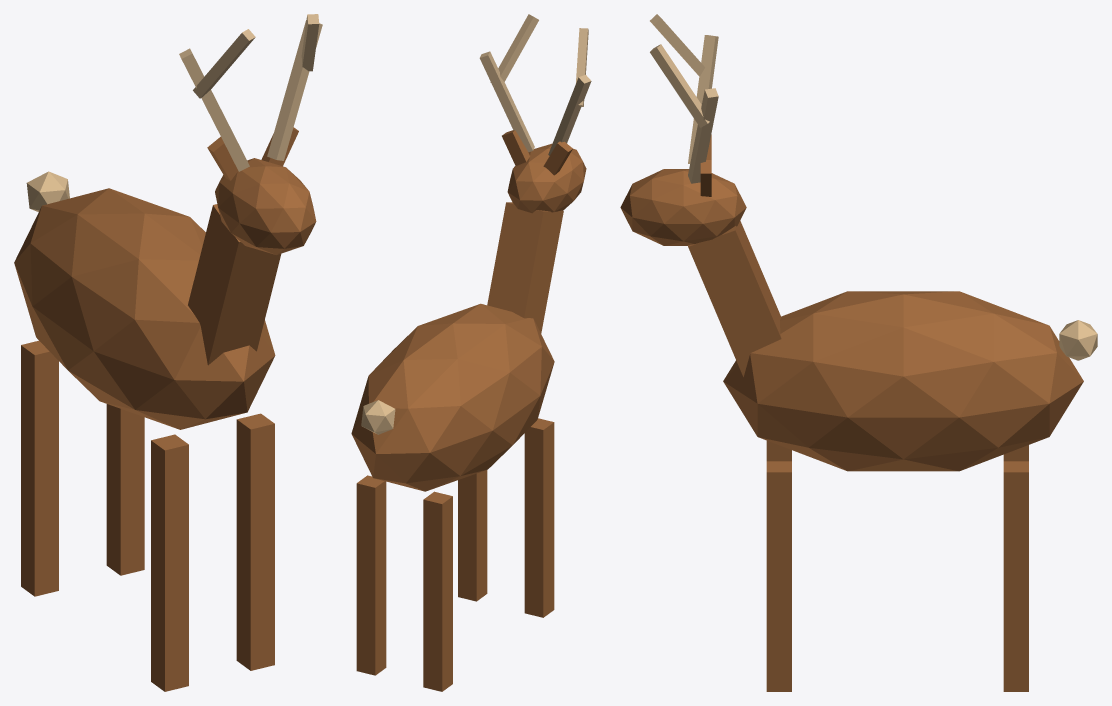
File: deer.glb
The picture shows the model from 3 angles, left to right: view 1: azimuth 30°, elevation 25°; view 2: azimuth 150°, elevation 25°; view 3: azimuth 270°, elevation 25°; orthographic projection. The views are drawn at different scales.
Visible parts, largest first — view 1: body, leg_1, leg_0, fur_deer, leg_2, head, leg_3, sack, fur_deer_light; view 2: body, fur_deer, leg_3, leg_0, leg_2, sack, leg_1, head, fur_deer_light; view 3: body, fur_deer, head, leg_1, leg_3, sack, fur_deer_light.
Part boxes in pixels (x1,y1,x2,y2): body: [14, 188, 275, 429]; leg_1: [236, 413, 274, 670]; leg_0: [151, 434, 188, 691]; fur_deer: [188, 127, 298, 365]; leg_2: [21, 340, 58, 596]; head: [215, 158, 316, 255]; leg_3: [106, 404, 144, 575]; sack: [179, 14, 322, 171]; fur_deer_light: [26, 171, 69, 212]; body: [351, 303, 554, 491]; fur_deer: [487, 130, 572, 333]; leg_3: [356, 475, 386, 675]; leg_0: [524, 418, 554, 617]; leg_2: [423, 491, 452, 691]; sack: [479, 14, 591, 155]; leg_1: [458, 470, 487, 601]; head: [507, 143, 586, 213]; fur_deer_light: [361, 400, 395, 434]; body: [723, 291, 1083, 471]; fur_deer: [688, 134, 781, 376]; head: [620, 169, 746, 245]; leg_1: [766, 461, 791, 691]; leg_3: [1003, 461, 1028, 691]; sack: [650, 14, 718, 183]; fur_deer_light: [1059, 320, 1097, 360].
Size of the model in its own units: 0.3043 by 1.25 by 0.846.
